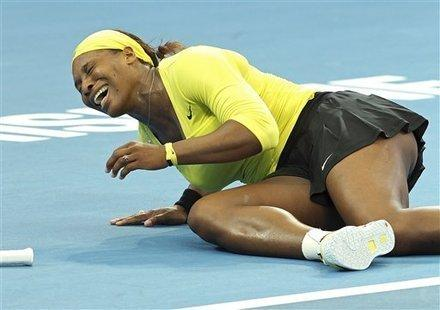down: (63, 20, 439, 271)
